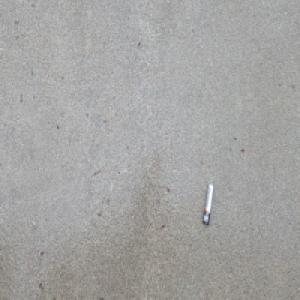Battery: (201, 181, 214, 227)
